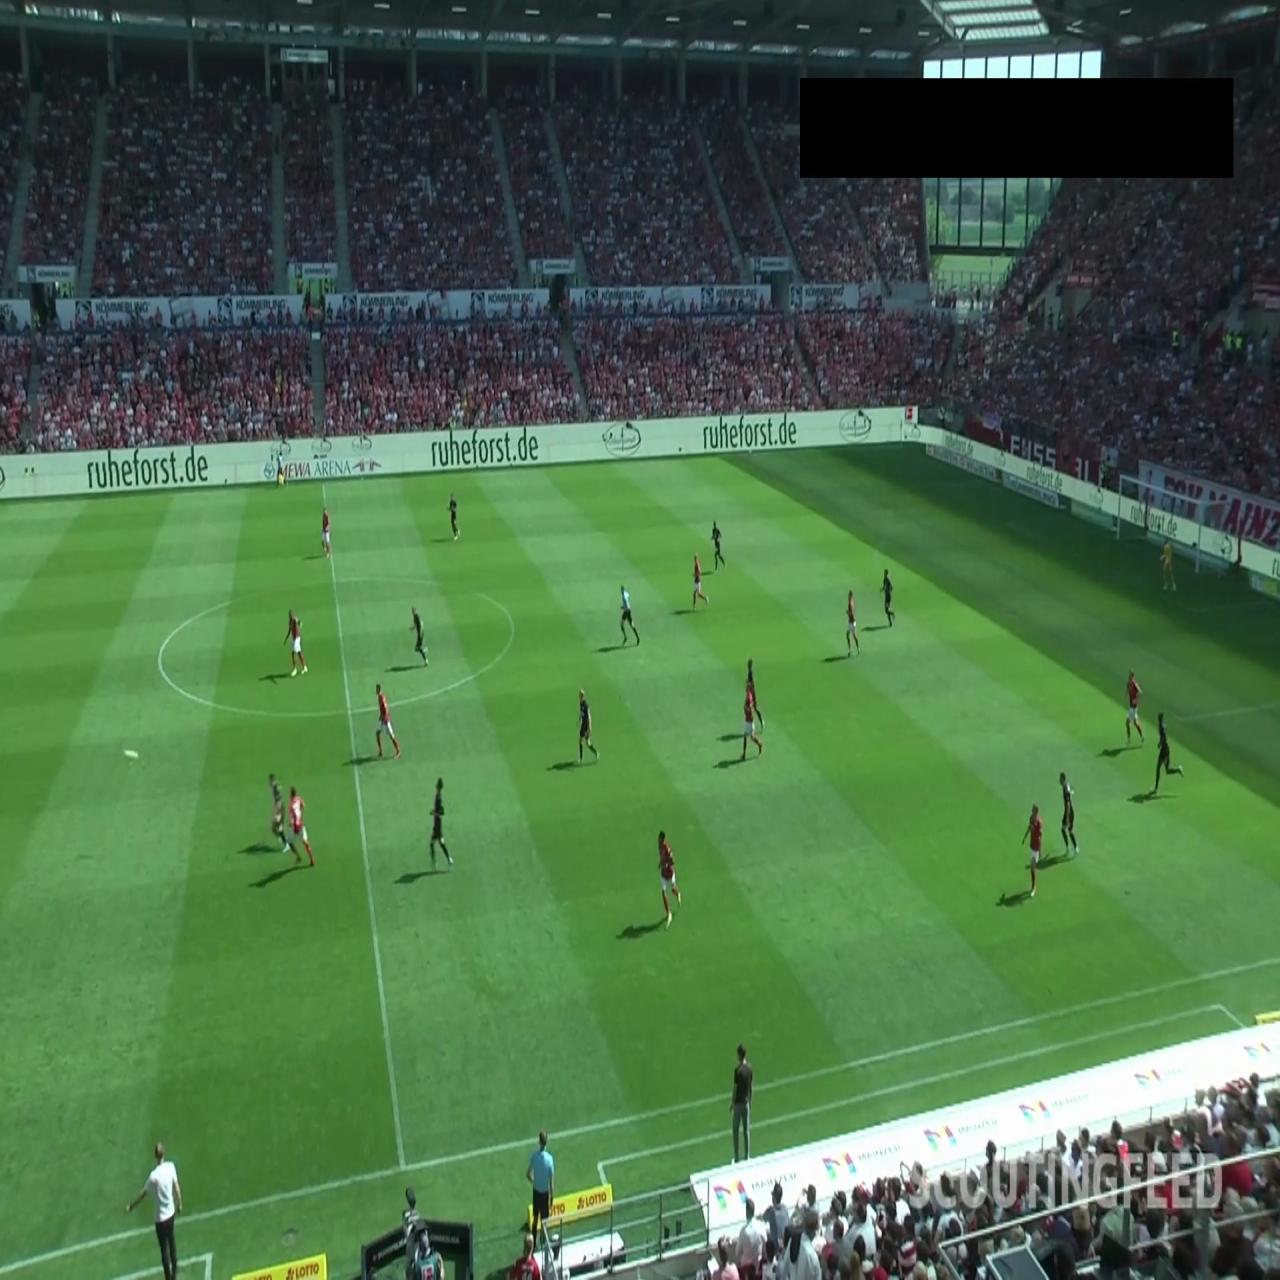ball: (123, 743, 140, 772)
goalkeeper: (1158, 538, 1176, 593)
player: (1151, 710, 1184, 795), (658, 830, 682, 930), (428, 776, 452, 870), (288, 784, 315, 866), (1022, 804, 1044, 898), (269, 774, 294, 856), (374, 682, 400, 759), (740, 684, 763, 761), (744, 654, 765, 734), (576, 688, 598, 764), (1058, 771, 1078, 854), (284, 609, 308, 676), (1124, 670, 1144, 746), (410, 606, 430, 666), (845, 588, 860, 658), (692, 552, 709, 610), (880, 568, 895, 627), (711, 522, 726, 572), (321, 508, 333, 560), (448, 492, 460, 540)
referee: (619, 583, 640, 646), (276, 440, 287, 486)
